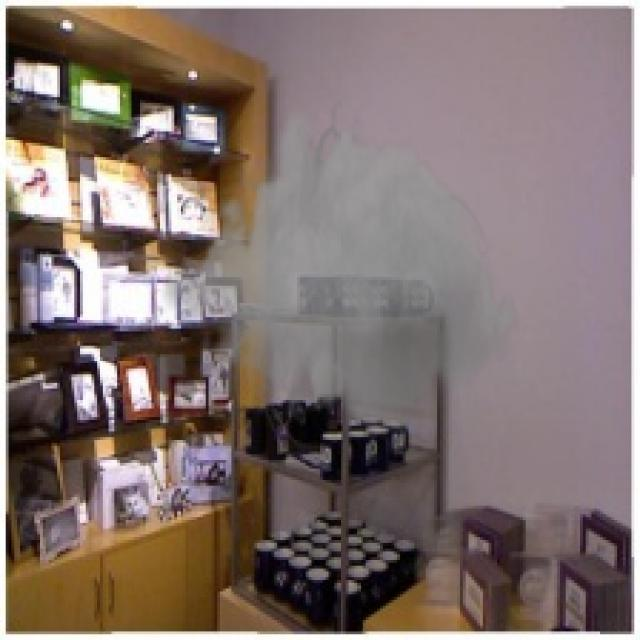Smoke: (160, 91, 520, 468)
